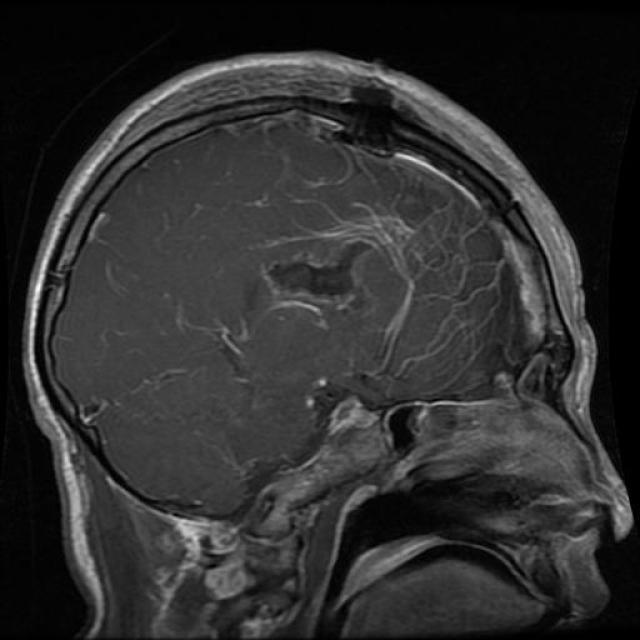glioma: (224, 211, 430, 340)
